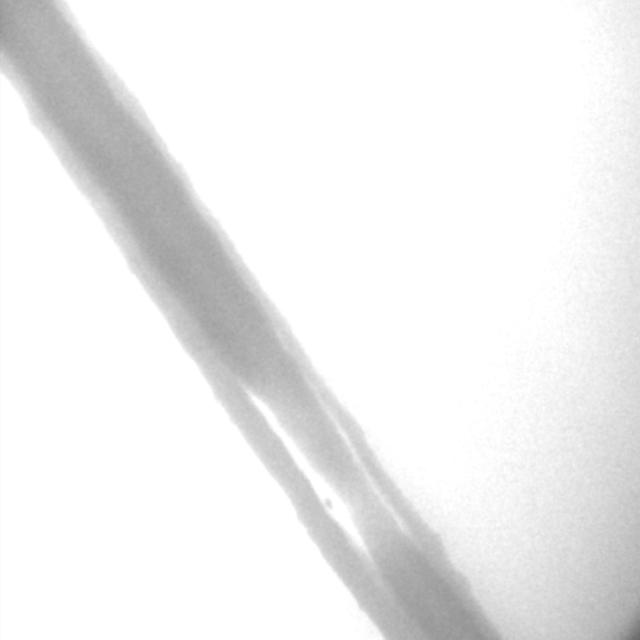unfused: (242, 381, 408, 561)
